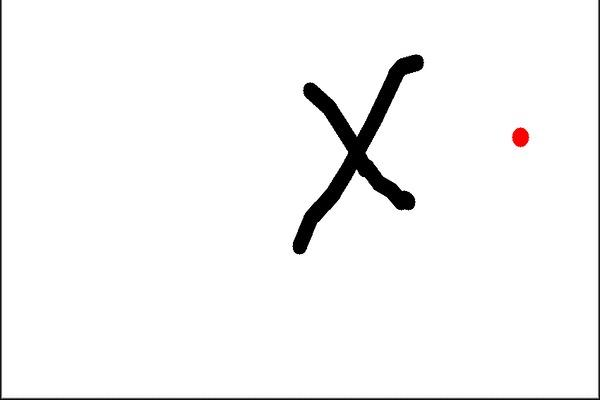X: (263, 38, 444, 268)
